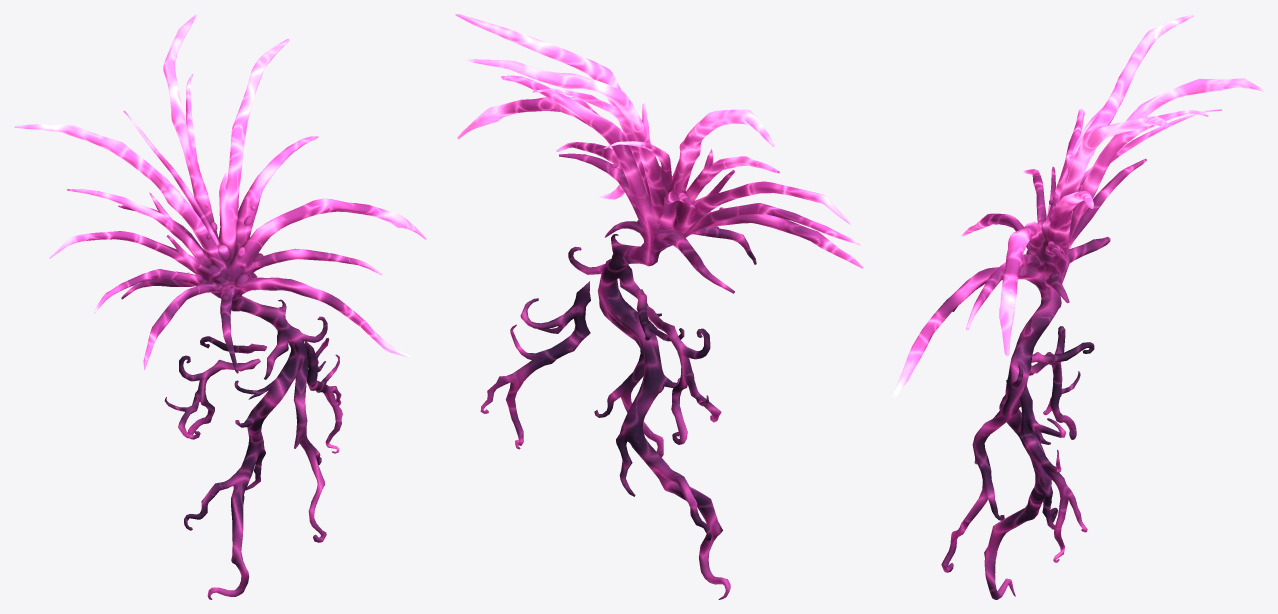
File: caos_sts_chaosplant_01a_chaos_v36.glb
3 renders of one model, left to right at view 1: azimuth 30°, elevation 25°; view 2: azimuth 150°, elevation 25°; view 3: azimuth 270°, elevation 25°, orthographic. The views are drawn at different scales.
Visible parts, largest first — view 1: caos_sts_chaosplant_01a; view 2: caos_sts_chaosplant_01a; view 3: caos_sts_chaosplant_01a.
Part boxes in pixels (left/top/right/bottom): caos_sts_chaosplant_01a: left=14, top=14, right=426, bottom=599; caos_sts_chaosplant_01a: left=455, top=14, right=863, bottom=599; caos_sts_chaosplant_01a: left=892, top=14, right=1263, bottom=599.
Size of the model in its own units: 6.06 by 8.15 by 4.92.
Materials: 1 (1 with a texture image).
